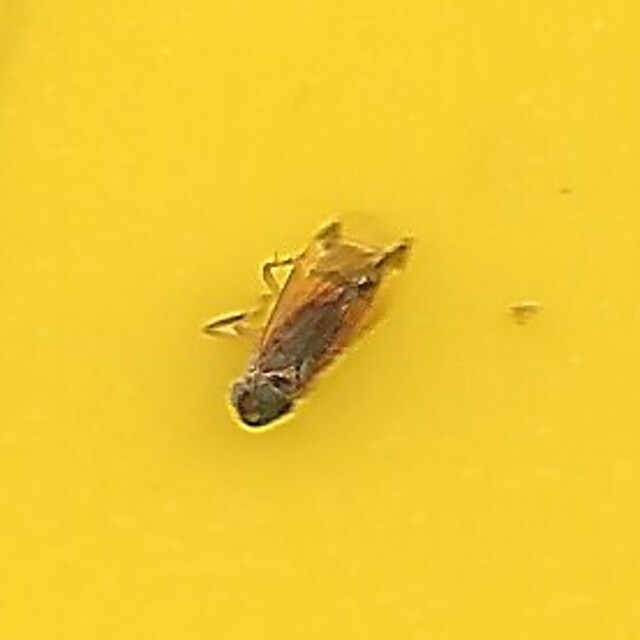Hemiptera: (231, 212, 409, 428)
